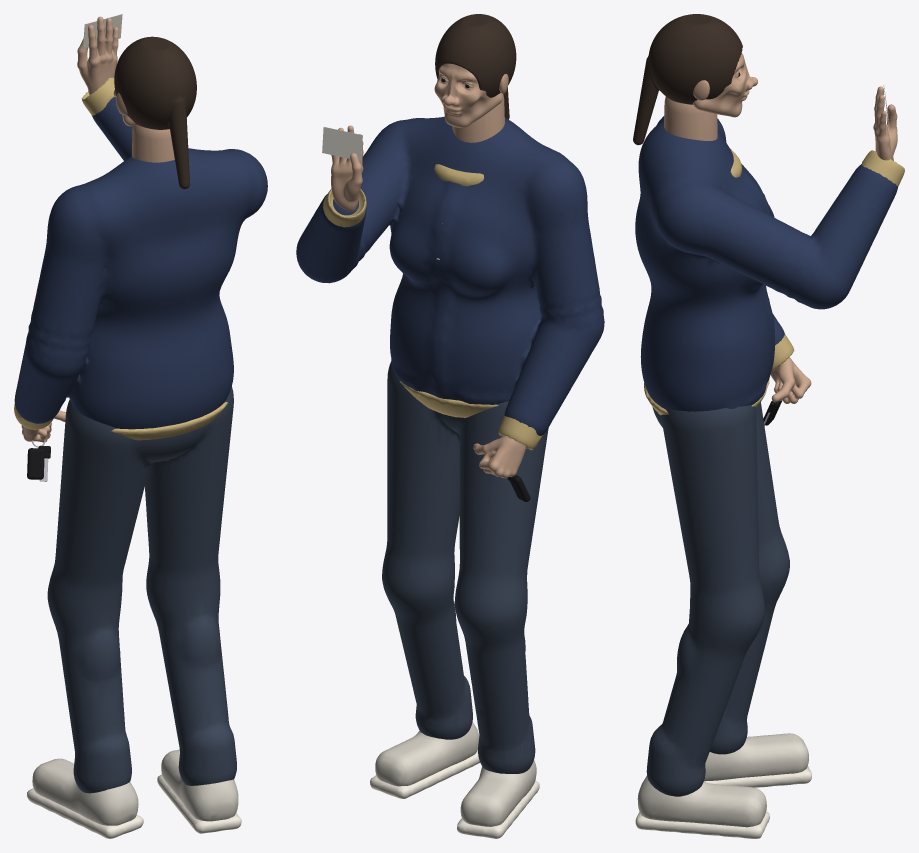
The model's file is driver_door.glb.
3 views of the same model, side by side, from view 1: azimuth 30°, elevation 25°; view 2: azimuth 150°, elevation 25°; view 3: azimuth 270°, elevation 25° (orthographic). The views are drawn at different scales.
Parts seen in each view (by area): view 1: driver_door_body, driver_door_head, driver_door_hands, keys_fob; view 2: driver_door_body, driver_door_head, driver_door_hands, card; view 3: driver_door_body, driver_door_head, driver_door_hands.
Part boxes in pixels (x1,y1,x2,y2): driver_door_body: (14,97,267,838); driver_door_head: (113,36,196,189); driver_door_hands: (14,16,118,442); keys_fob: (27,448,44,479); driver_door_body: (296,94,604,838); driver_door_head: (434,14,516,127); driver_door_hands: (323,125,542,478); card: (322,127,362,161); driver_door_body: (635,96,897,838); driver_door_head: (633,14,757,145); driver_door_hands: (770,86,904,403).
Bounding box in the file's own units: 0.5375 × 1.64 × 0.516.
